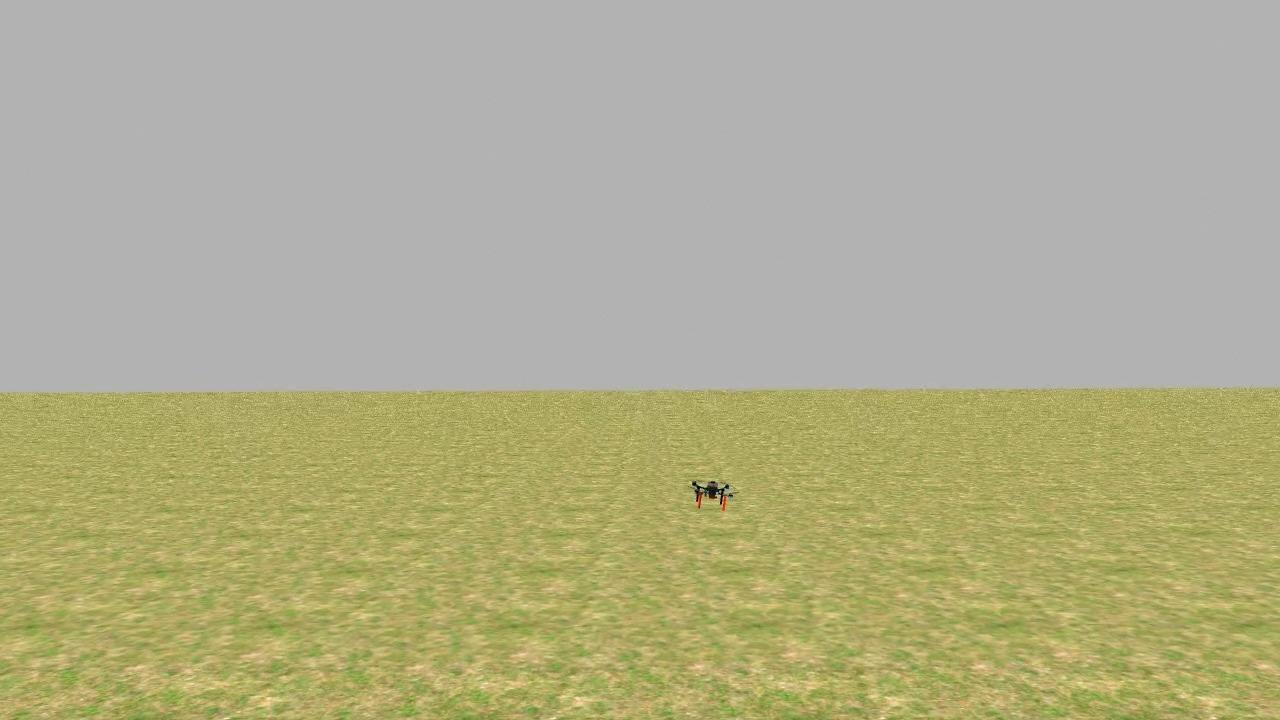UAV: (657, 453, 772, 529)
